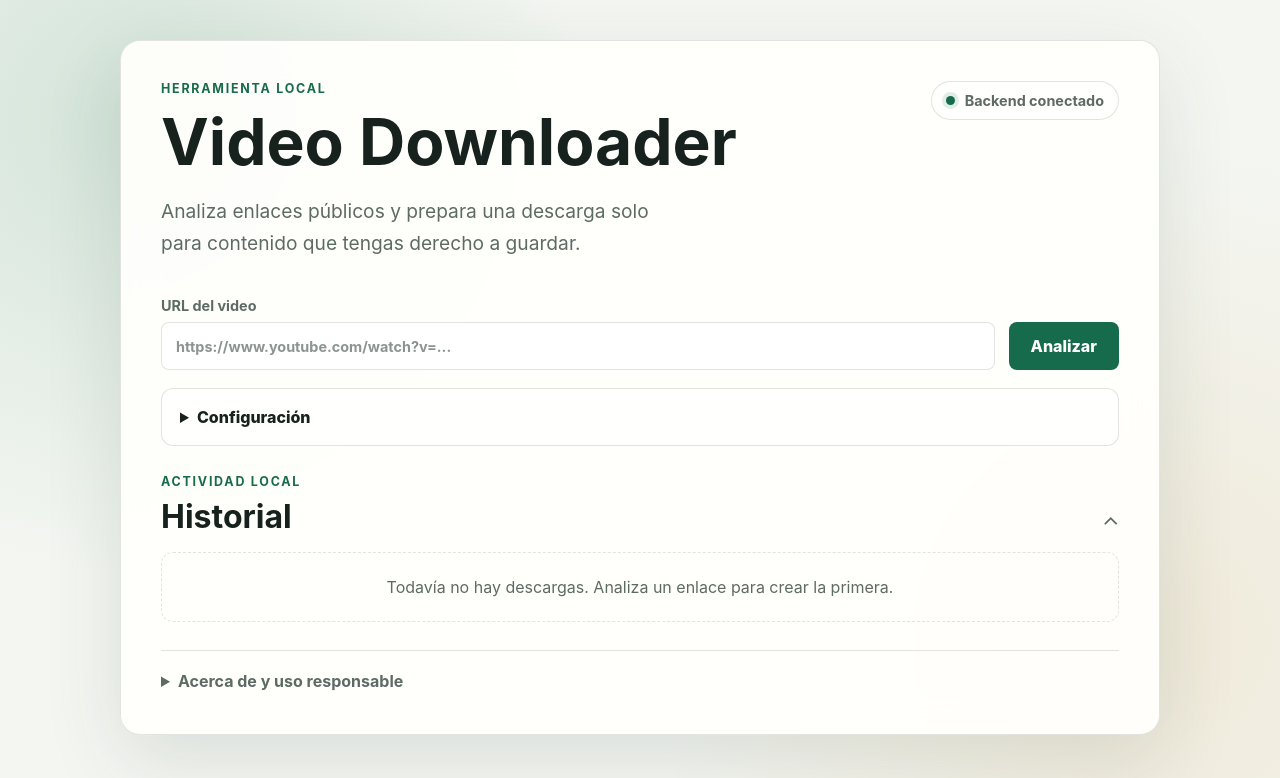
it: App › inspects a media URL and shows selectable output options
This screenshot has width=1280, height=778.
In the field labelled "URL del video": (578, 346) x1=161 y1=322 x2=995 y2=370, type "https://youtu.be/mfqTOAxmhOs"
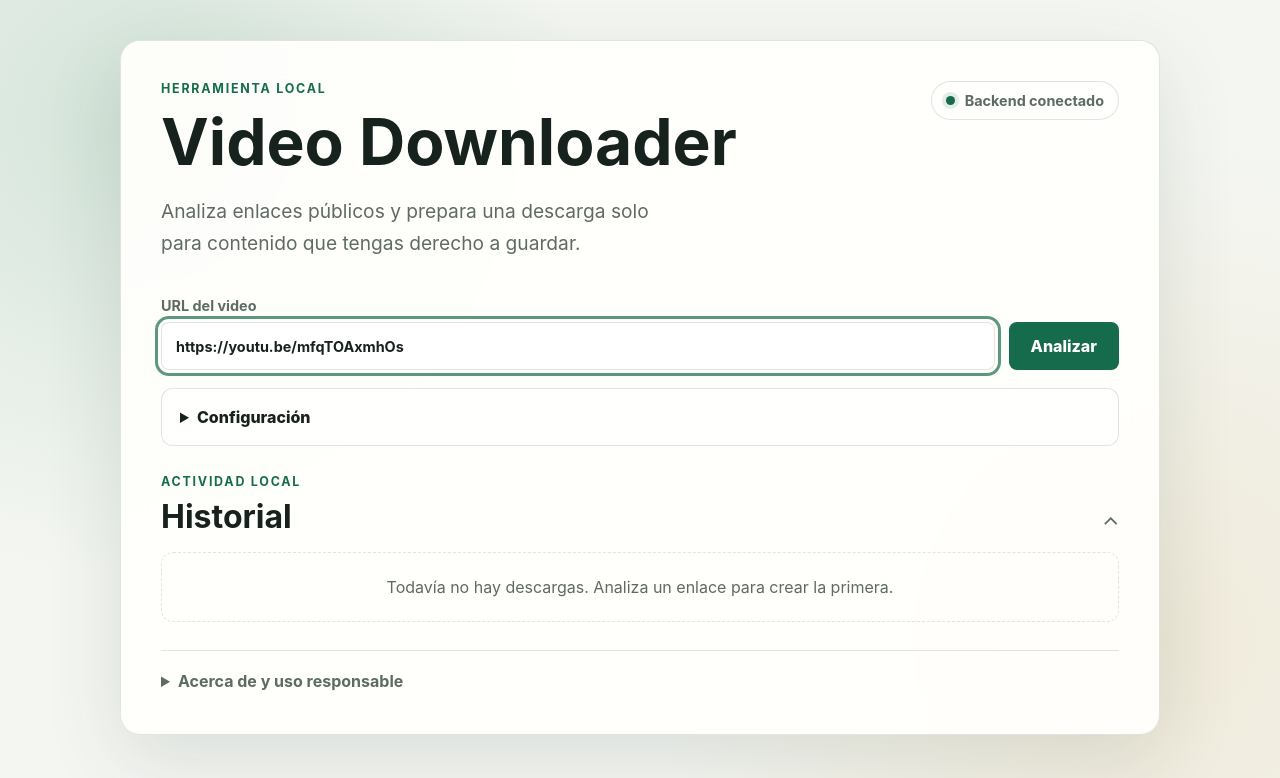
Click the button "Analizar": (1064, 346) x1=1009 y1=322 x2=1119 y2=370
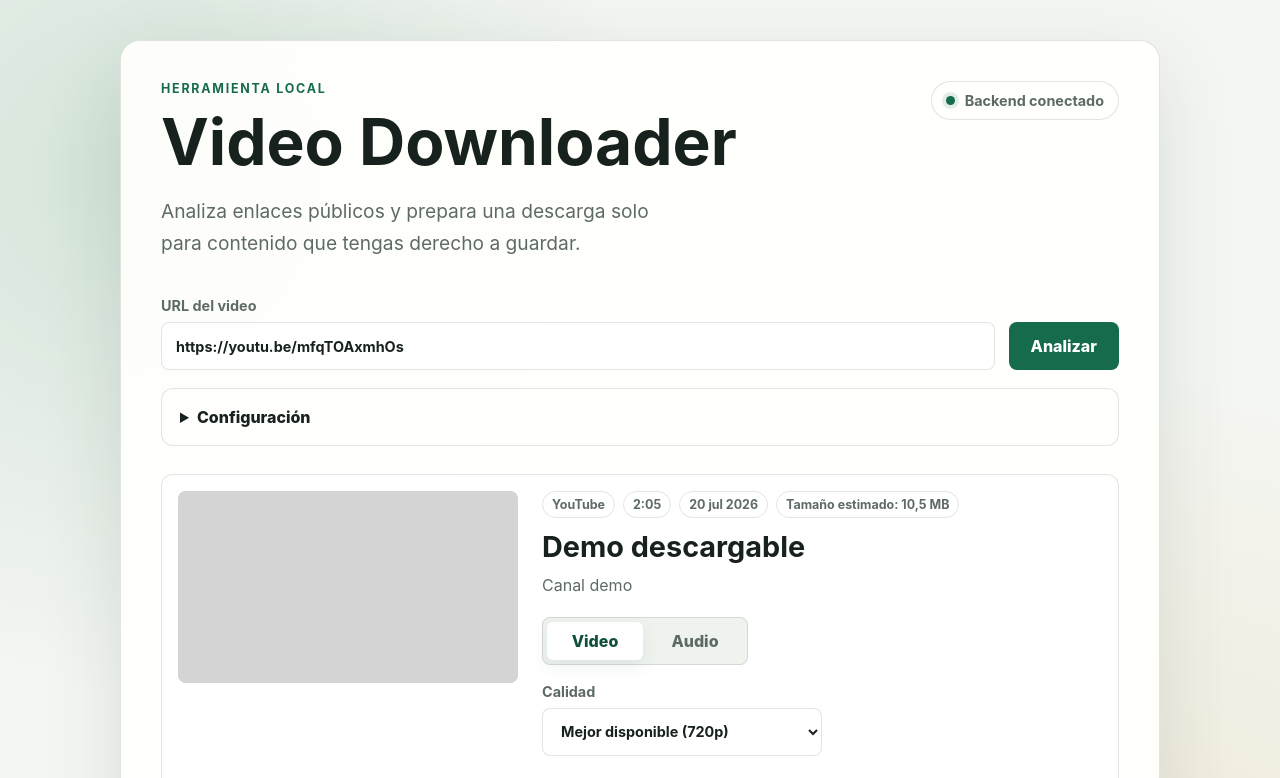
Expected: the heading "Demo descargable" is shown, x1=542 y1=529 x2=805 y2=564
Expected: the text "Canal demo" is shown, x1=542 y1=575 x2=632 y2=595
Expected: the text "YouTube" is shown, x1=542 y1=491 x2=615 y2=518
